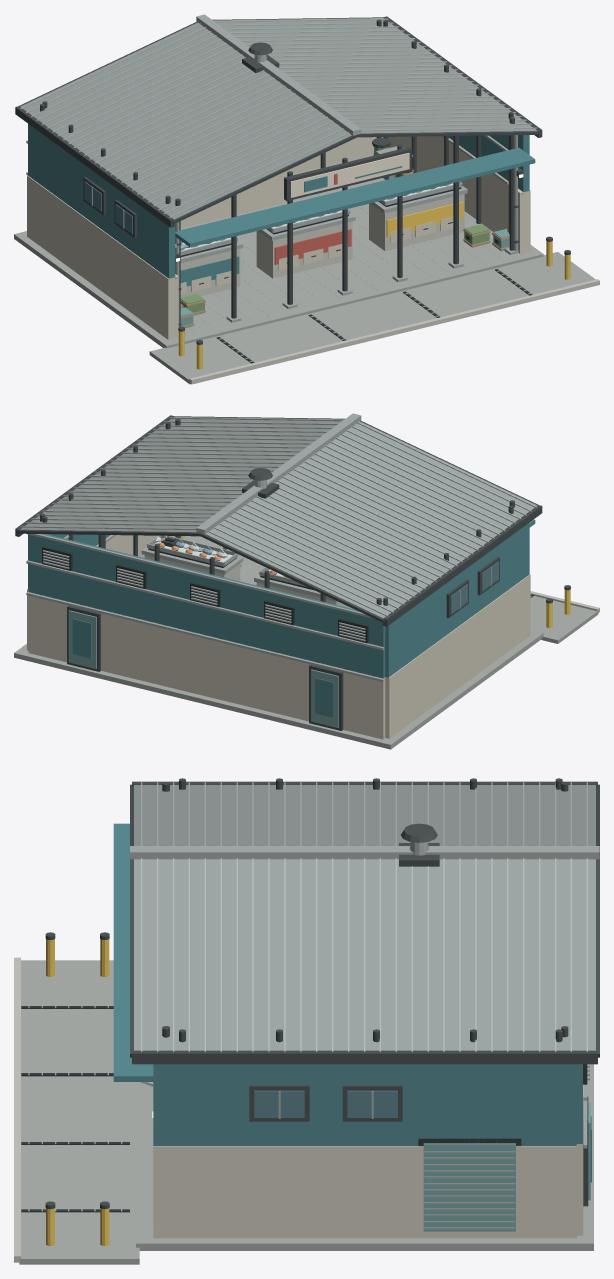
Rendered from Seafood_Market.fbx.
3 views of the same model, one above another, from view 1: azimuth 30°, elevation 25°; view 2: azimuth 150°, elevation 25°; view 3: azimuth 270°, elevation 25° (orthographic). The views are drawn at different scales.
Visible parts, largest first — view 1: Left pitched market roof, Market reinforced concrete floor, Right pitched market roof, Front wet market apron, Side lower concrete wall, Front trading canopy, Side upper teal cladding, Side lower concrete wall.001, Apron front curb, Fish preparation bench base, Market roof ridge cap, Daily catch display counter counter base (+22 smaller); view 2: Left pitched market roof, Rear upper teal cladding, Rear lower concrete wall, Right pitched market roof, Side lower concrete wall, Side upper teal cladding, Market reinforced concrete floor, Front wet market apron, Market roof ridge cap, Market roof eave fascia, Rear horizontal steel girt, Rear horizontal steel girt.001 (+14 smaller); view 3: Right pitched market roof, Side lower concrete wall.001, Front wet market apron, Side upper teal cladding.001, Left pitched market roof, Market reinforced concrete floor, Side roller shutter, Market roof eave fascia.001, Market roof ridge cap, Front trading canopy, Apron front curb, Market roof eave fascia (+8 smaller).
Boxes of the visible parts, box(x1,y1,x2,y2) form: Left pitched market roof: box(20, 22, 351, 219); Market reinforced concrete floor: box(14, 154, 543, 348); Right pitched market roof: box(213, 18, 537, 133); Front wet market apron: box(149, 252, 595, 384); Side lower concrete wall: box(27, 175, 175, 339); Front trading canopy: box(175, 147, 535, 247); Side upper teal cladding: box(28, 124, 175, 278); Side lower concrete wall.001: box(388, 136, 530, 253); Apron front curb: box(189, 279, 599, 384); Fish preparation bench base: box(180, 166, 296, 227); Market roof ridge cap: box(196, 14, 361, 135); Daily catch display counter counter base: box(256, 221, 352, 278); Left pitched market roof: box(205, 421, 537, 618); Rear upper teal cladding: box(29, 534, 385, 678); Rear lower concrete wall: box(28, 592, 385, 739); Right pitched market roof: box(20, 417, 343, 532); Side lower concrete wall: box(385, 574, 530, 738); Side upper teal cladding: box(385, 522, 529, 677); Market reinforced concrete floor: box(14, 560, 543, 749); Front wet market apron: box(181, 536, 598, 643); Market roof ridge cap: box(196, 413, 361, 534); Market roof eave fascia: box(383, 505, 542, 626); Rear horizontal steel girt: box(26, 592, 384, 681); Rear horizontal steel girt.001: box(26, 560, 384, 650); Right pitched market roof: box(134, 859, 595, 1050); Side lower concrete wall.001: box(153, 1146, 576, 1238); Front wet market apron: box(19, 960, 139, 1264); Side upper teal cladding.001: box(153, 1064, 576, 1146); Left pitched market roof: box(134, 785, 595, 845); Market reinforced concrete floor: box(136, 1064, 593, 1250); Side roller shutter: box(423, 1143, 515, 1231); Market roof eave fascia.001: box(132, 1050, 597, 1064); Market roof ridge cap: box(130, 846, 599, 859); Front trading canopy: box(113, 823, 153, 1081); Apron front curb: box(14, 957, 20, 1262); Market roof eave fascia: box(132, 781, 597, 785).
Bounding box in the file's own units: 1820 × 810 × 1510.
